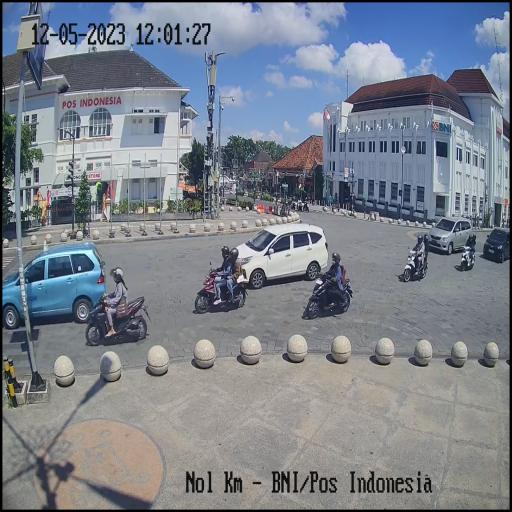mobil: (4, 242, 104, 326), (232, 221, 331, 279), (428, 215, 474, 255), (483, 223, 509, 264)
motor: (85, 289, 147, 343), (195, 263, 248, 314), (304, 270, 353, 322), (402, 242, 429, 282), (460, 243, 476, 274)
